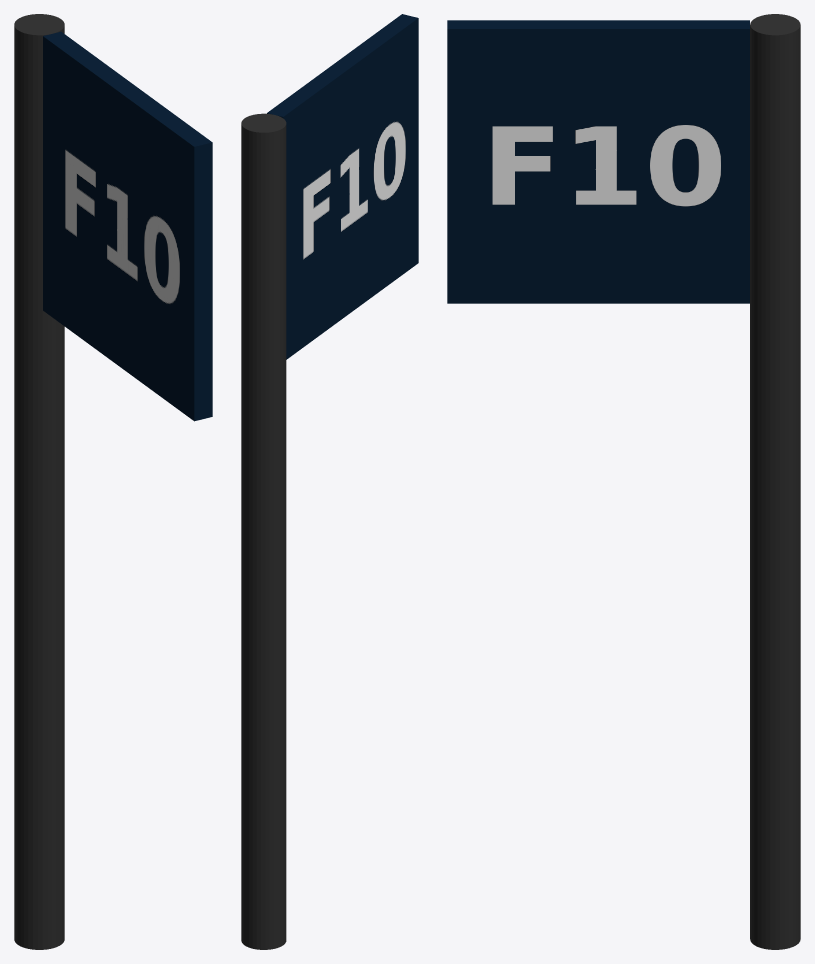
File: start_flag.dae
The picture shows the model from 3 angles, left to right: view 1: azimuth 30°, elevation 25°; view 2: azimuth 150°, elevation 25°; view 3: azimuth 270°, elevation 25°; orthographic projection. The views are drawn at different scales.
Parts seen in each view (by area): view 1: flag; view 2: flag; view 3: flag.
Part boxes in pixels (x1=…): flag: x1=14, y1=14, x2=212, y2=949; flag: x1=241, y1=14, x2=418, y2=949; flag: x1=447, y1=14, x2=800, y2=949.
Size of the model in its own units: 0.1 by 0.7 by 2.
Materials: 2 (1 with a texture image).
